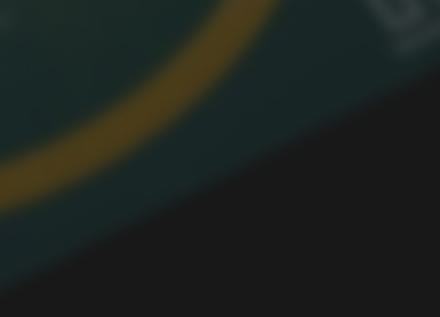Apron: (1, 1, 282, 213)
